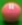pink: (0, 0, 22, 25)
